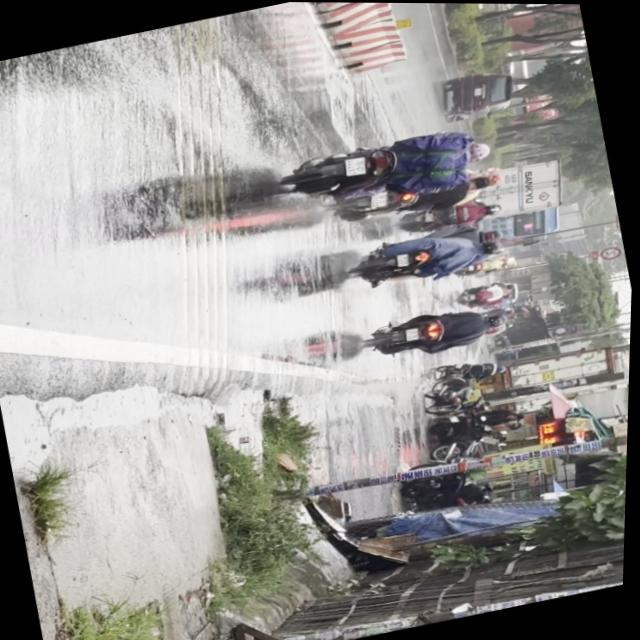helmet: (467, 137, 494, 160)
licenseplate: (277, 114, 501, 211), (331, 159, 509, 229)
motorcyclist: (460, 171, 495, 193)
nohelmet: (345, 154, 368, 175), (370, 190, 390, 207)
